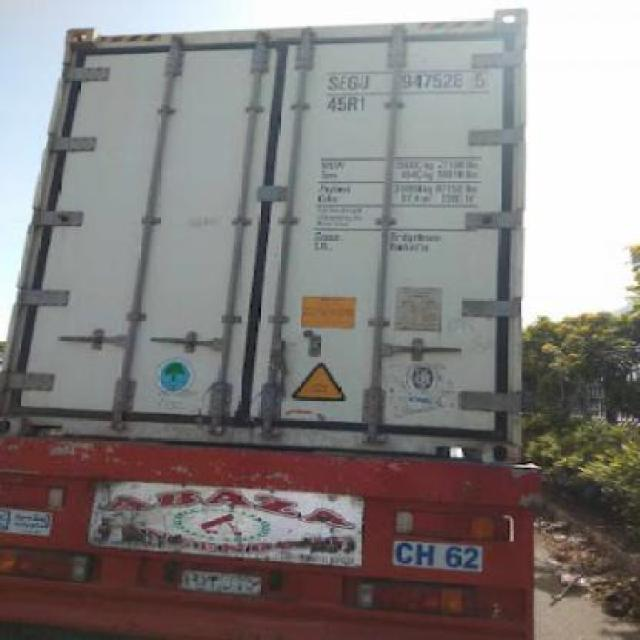ISO: (320, 96, 370, 112)
container_number: (318, 68, 492, 94)
